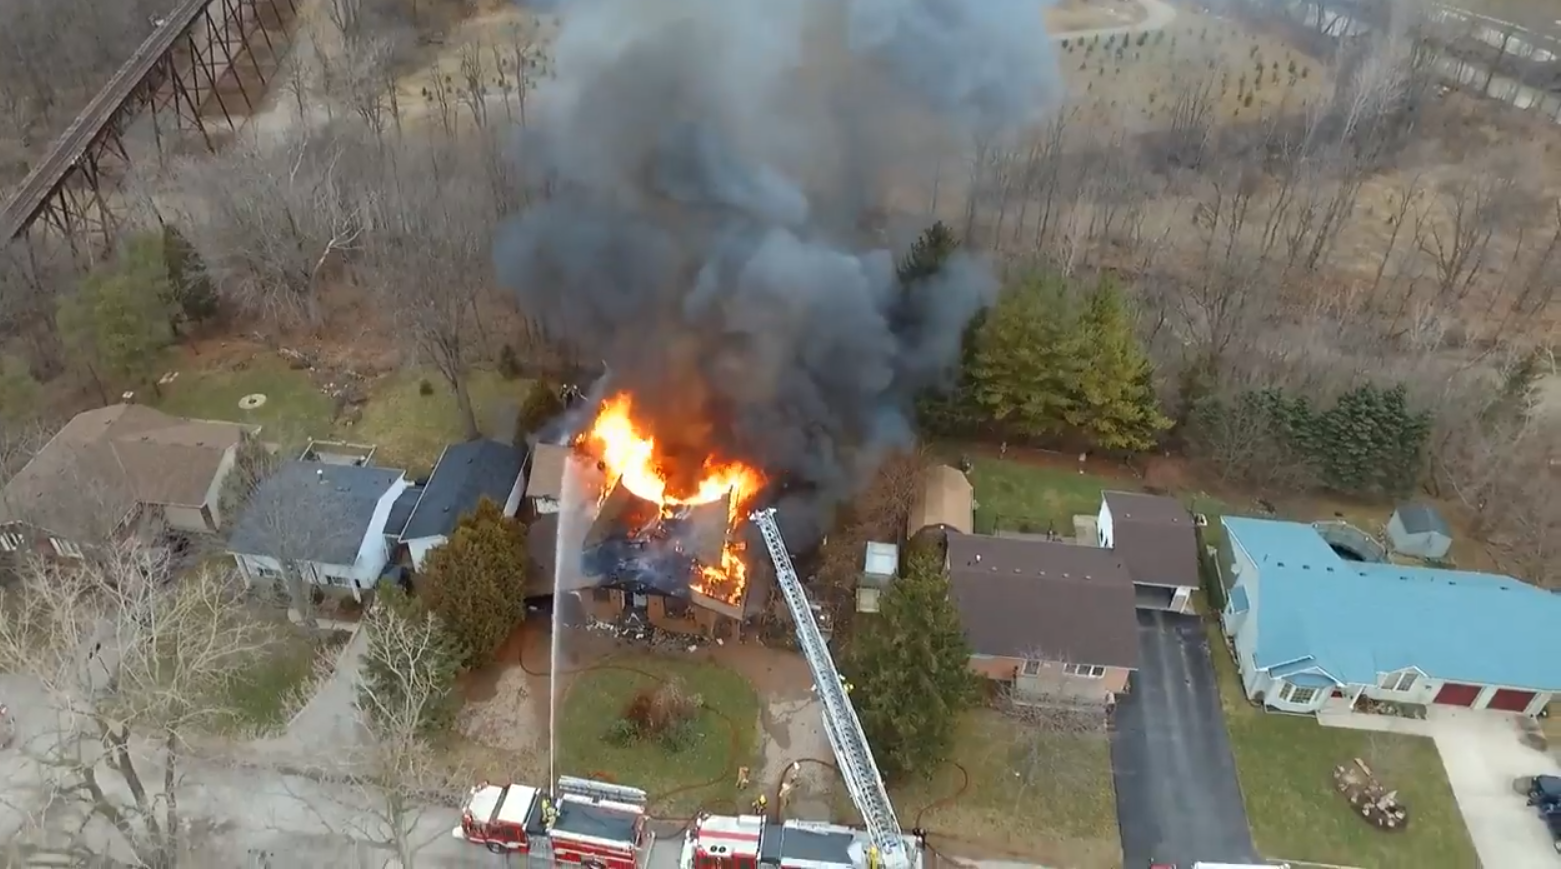fire: (571, 396, 785, 577)
